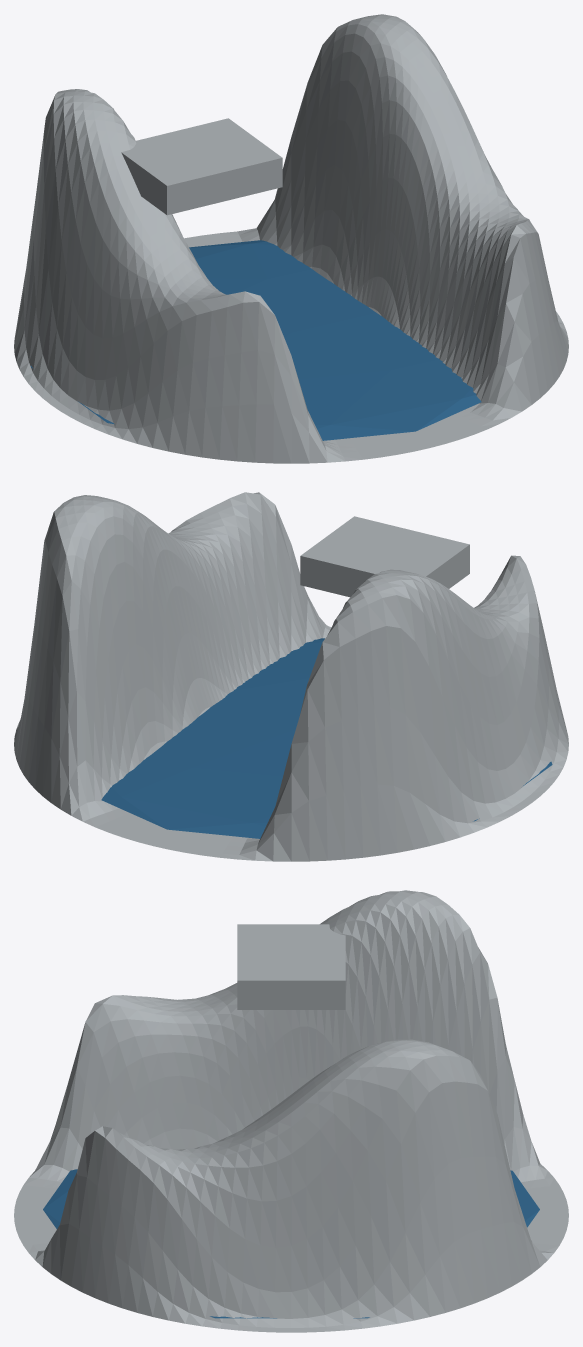
The model's file is FEATURE_LYSEFJORDEN.fbx.
The picture shows the model from 3 angles, top to bottom: view 1: azimuth 30°, elevation 25°; view 2: azimuth 150°, elevation 25°; view 3: azimuth 270°, elevation 25°; orthographic projection.
Visible parts, largest first — view 1: Fjord_walls.001, Fjord.001, Pulpit_Rock; view 2: Fjord_walls.001, Fjord.001, Pulpit_Rock; view 3: Fjord_walls.001, Pulpit_Rock, Fjord.001.
Part boxes in pixels (left/top/right/bottom): Fjord_walls.001: left=14, top=14, right=568, bottom=463; Fjord.001: left=30, top=240, right=481, bottom=440; Pulpit_Rock: left=121, top=118, right=282, bottom=215; Fjord_walls.001: left=14, top=492, right=568, bottom=861; Fjord.001: left=101, top=638, right=552, bottom=838; Pulpit_Rock: left=300, top=516, right=469, bottom=597; Fjord_walls.001: left=14, top=890, right=568, bottom=1332; Pulpit_Rock: left=237, top=924, right=345, bottom=1009; Fjord.001: left=43, top=1169, right=539, bottom=1318.
Size of the model in its own units: 154 by 75.69 by 154.
